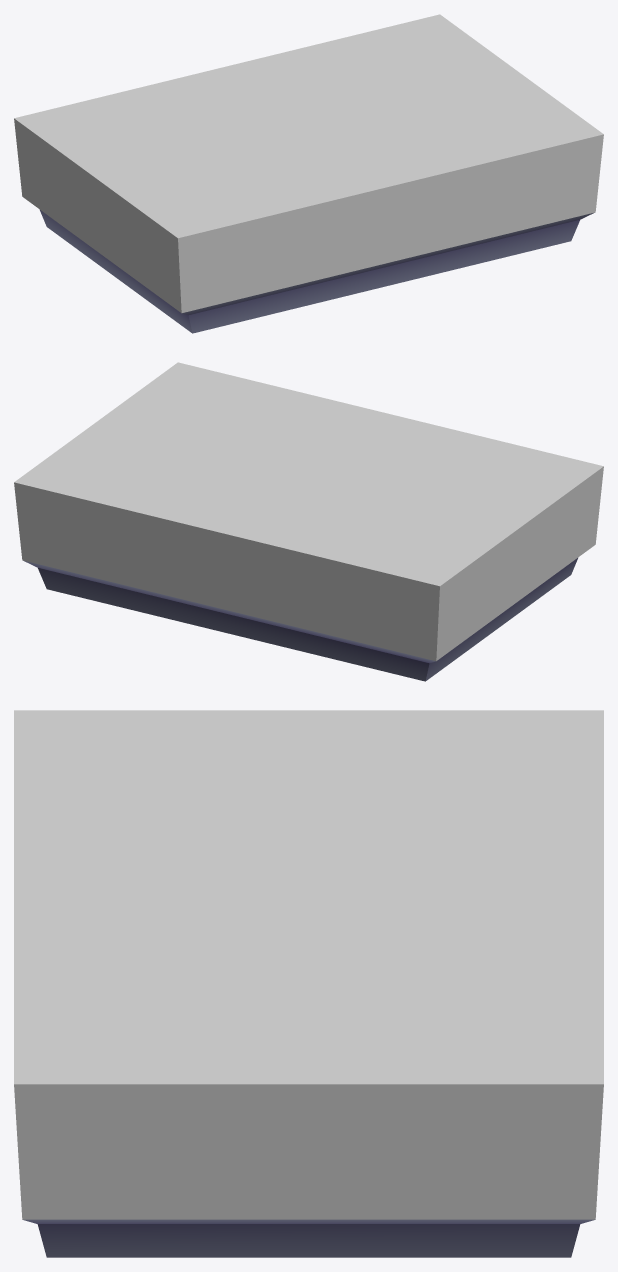
Rendered from obstacle-compactor_platform.glb.
The picture shows the model from 3 angles, top to bottom: view 1: azimuth 30°, elevation 25°; view 2: azimuth 150°, elevation 25°; view 3: azimuth 270°, elevation 25°; orthographic projection. The views are drawn at different scales.
Parts seen in each view (by area): view 1: obstacle-compactor_platform; view 2: obstacle-compactor_platform; view 3: obstacle-compactor_platform.
Part boxes in pixels (<box>): obstacle-compactor_platform: <box>14,14,603,333</box>; obstacle-compactor_platform: <box>14,362,603,681</box>; obstacle-compactor_platform: <box>14,710,603,1257</box>.
Size of the model in its own units: 9 by 2.18 by 6.
